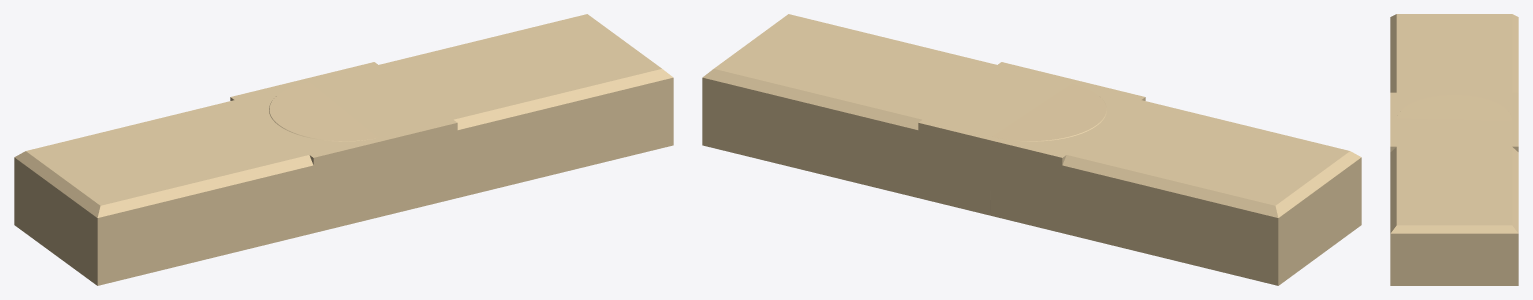
Rendered from Buttons.fbx.
The picture shows the model from 3 angles, left to right: view 1: azimuth 30°, elevation 25°; view 2: azimuth 150°, elevation 25°; view 3: azimuth 270°, elevation 25°; orthographic projection. The views are drawn at different scales.
Parts seen in each view (by area): view 1: SquareButton_0.2_4to1, SquareButton_0.1_4to1, SquareButton_0.1_3to1, KeyboardKeyRounded_0.1_4to1, SquareButton_0.2_2to1, SquareButton_0.2_3to2, SquareButton_0.2_3to1, KeyboardKeyRounded_4to1, RoundButton_0.1, SquareButton, KeyboardKey_4to1, SquareButton_0.1_3to2 (+14 smaller); view 2: SquareButton_0.1_4to1, SquareButton_0.2_4to1, SquareButton_0.1_3to1, SquareButton_0.2_2to1, KeyboardKey_0.1_4to1, SquareButton_0.1_2to1, SquareButton_0.2_3to1, KeyboardKeyRounded_0.1_3to1, RoundButton_0.1, KeyboardKeyRounded_4to1, SquareButton, SquareButtonPlunger_Rounded0.3_4to1 (+18 smaller); view 3: SquareButton_0.2_4to1, SquareButton_0.1_4to1, SquareButton_0.1_3to1, KeyboardKeyRounded_0.1_4to1, SquareButton_0.2_2to1, KeyboardKey_0.1_4to1, RoundButton_0.1, SquareButton_0.2_3to1, KeyboardKey_3to1, SquareButton, KeyboardKey_4to1, KeyboardKeyRounded_0.1_3to1 (+15 smaller).
Boxes of the visible parts, <box> form: SquareButton_0.2_4to1: <box>14,19,673,285</box>; SquareButton_0.1_4to1: <box>14,14,673,285</box>; SquareButton_0.1_3to1: <box>98,31,601,256</box>; KeyboardKeyRounded_0.1_4to1: <box>55,26,620,189</box>; SquareButton_0.2_2to1: <box>214,56,529,245</box>; SquareButton_0.2_3to2: <box>237,116,493,233</box>; SquareButton_0.2_3to1: <box>142,39,601,258</box>; KeyboardKeyRounded_4to1: <box>50,21,634,193</box>; RoundButton_0.1: <box>269,82,385,153</box>; SquareButton: <box>230,62,457,190</box>; KeyboardKey_4to1: <box>41,19,639,194</box>; SquareButton_0.1_3to2: <box>206,63,493,227</box>; SquareButton_0.1_4to1: <box>702,14,1361,285</box>; SquareButton_0.2_4to1: <box>702,19,1361,285</box>; SquareButton_0.1_3to1: <box>779,31,1277,264</box>; SquareButton_0.2_2to1: <box>846,55,1134,250</box>; KeyboardKey_0.1_4to1: <box>756,29,1316,194</box>; SquareButton_0.1_2to1: <box>850,50,1197,250</box>; SquareButton_0.2_3to1: <box>818,37,1237,266</box>; KeyboardKeyRounded_0.1_3to1: <box>858,52,1242,176</box>; RoundButton_0.1: <box>990,83,1106,215</box>; KeyboardKeyRounded_4to1: <box>762,26,1322,198</box>; SquareButton: <box>918,62,1145,231</box>; SquareButtonPlunger_Rounded0.3_4to1: <box>724,107,1348,250</box>; SquareButton_0.2_4to1: <box>1390,16,1518,285</box>; SquareButton_0.1_4to1: <box>1390,14,1518,285</box>; SquareButton_0.1_3to1: <box>1390,41,1518,206</box>; KeyboardKeyRounded_0.1_4to1: <box>1418,21,1500,218</box>; SquareButton_0.2_2to1: <box>1403,71,1505,168</box>; KeyboardKey_0.1_4to1: <box>1418,21,1500,218</box>; RoundButton_0.1: <box>1397,95,1511,120</box>; SquareButton_0.2_3to1: <box>1403,43,1505,195</box>; KeyboardKey_3to1: <box>1412,45,1505,193</box>; SquareButton: <box>1390,92,1518,151</box>; KeyboardKey_4to1: <box>1412,18,1506,220</box>; KeyboardKeyRounded_0.1_3to1: <box>1418,48,1459,190</box>.
Size of the model in its own units: 800 by 121 by 200.
